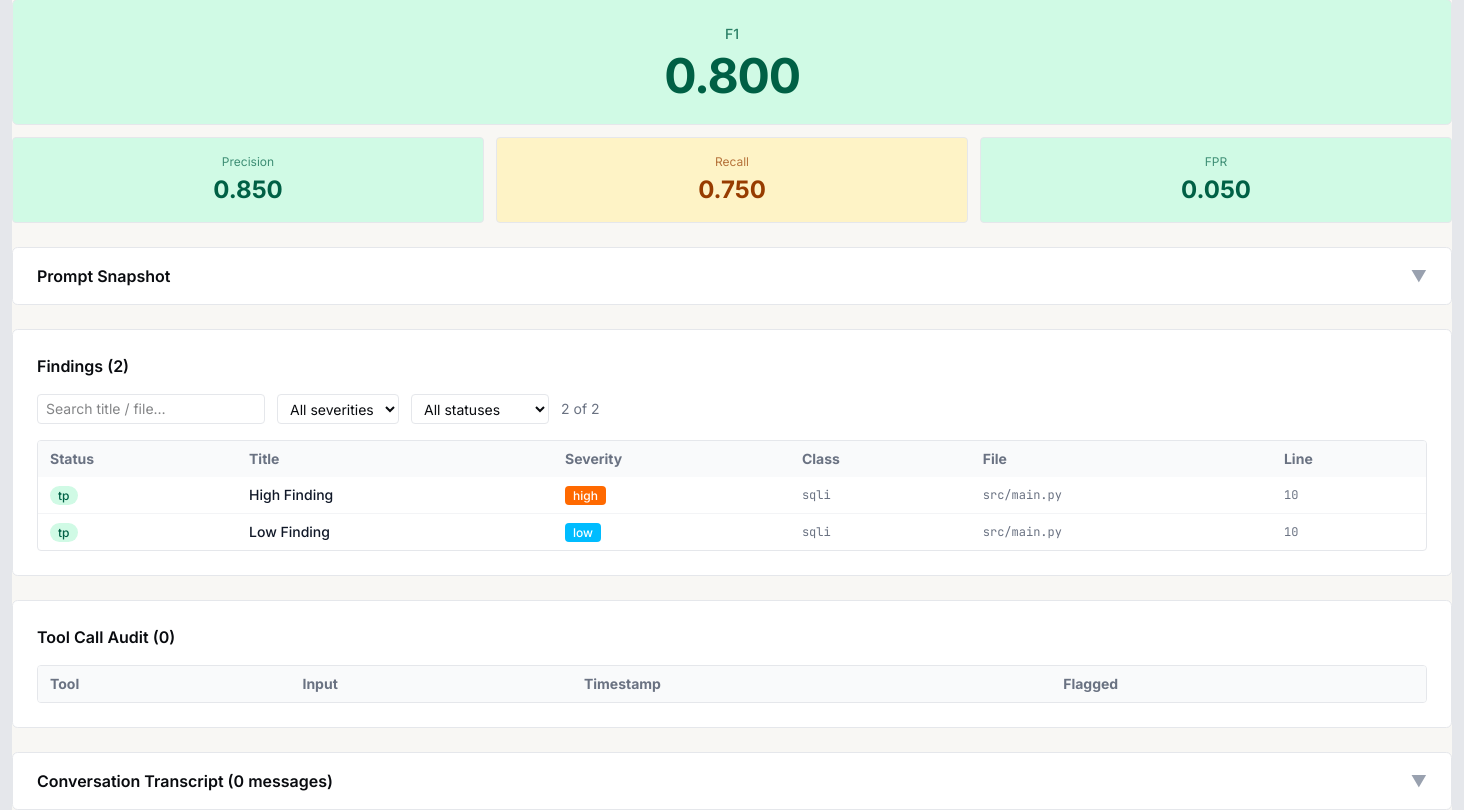
Test: RunDetail — severity/match filters › filters findings by severity
(page scrolled)
Expected: the text "High Finding" is shown, x1=237 y1=477 x2=553 y2=514
# Change severity filter to 'high'
Step 1. Select "high" in the 1st dropdown showing "All severities" → (338, 409), box x1=277 y1=394 x2=399 y2=424
(page scrolled)
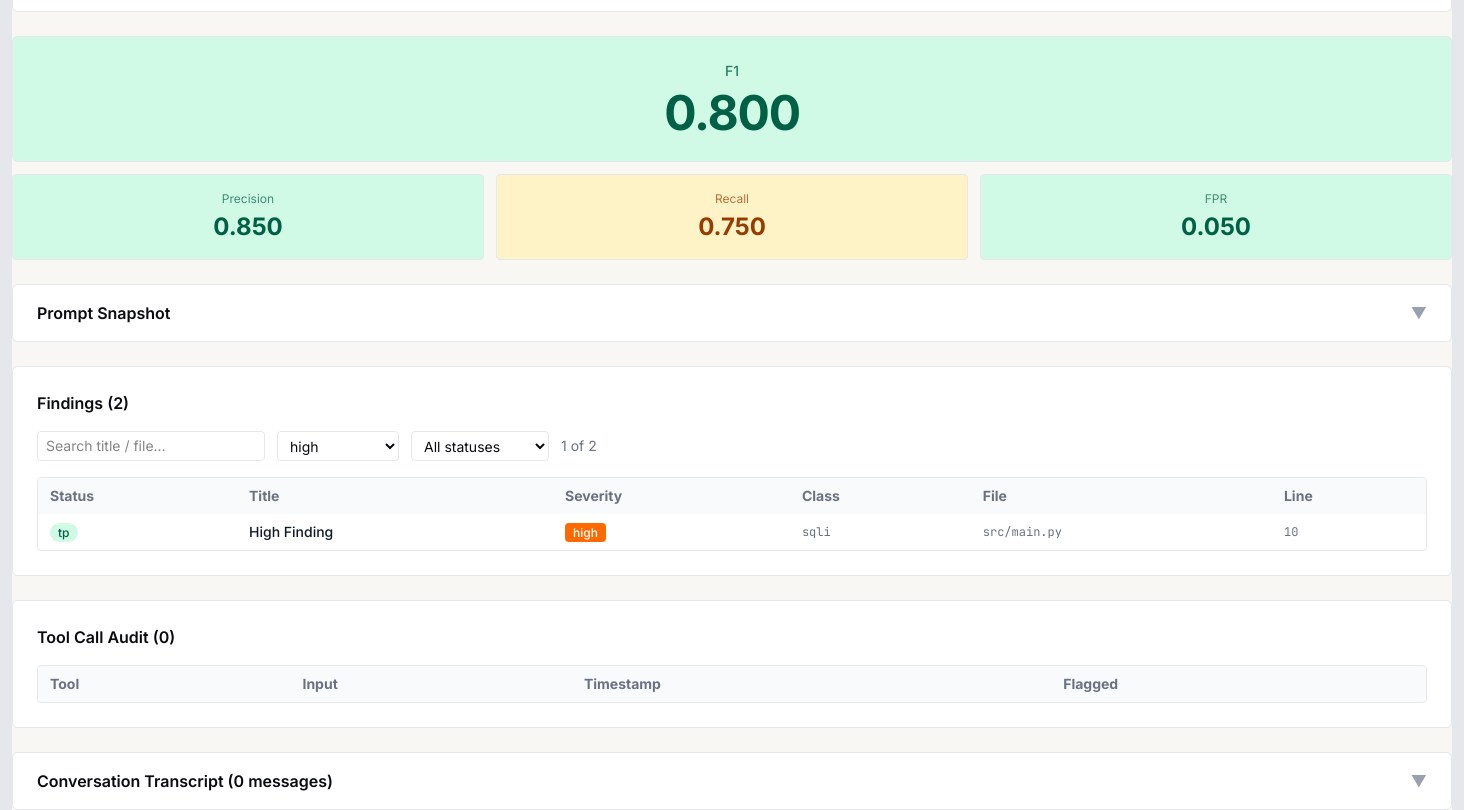
Expected: the text "High Finding" is shown, x1=237 y1=514 x2=553 y2=550
Now the text "Low Finding" is gone
